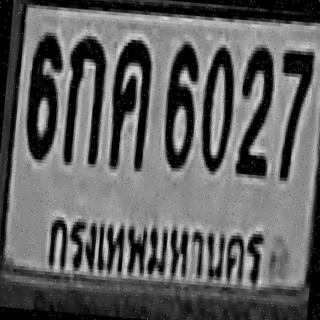A01: (60, 31, 107, 164)
A04: (107, 35, 154, 168)
N00: (196, 41, 237, 171)
N02: (234, 41, 276, 174)
N06: (22, 28, 64, 157), (161, 40, 199, 166)
N07: (270, 46, 314, 179)
P04: (41, 200, 268, 296)
